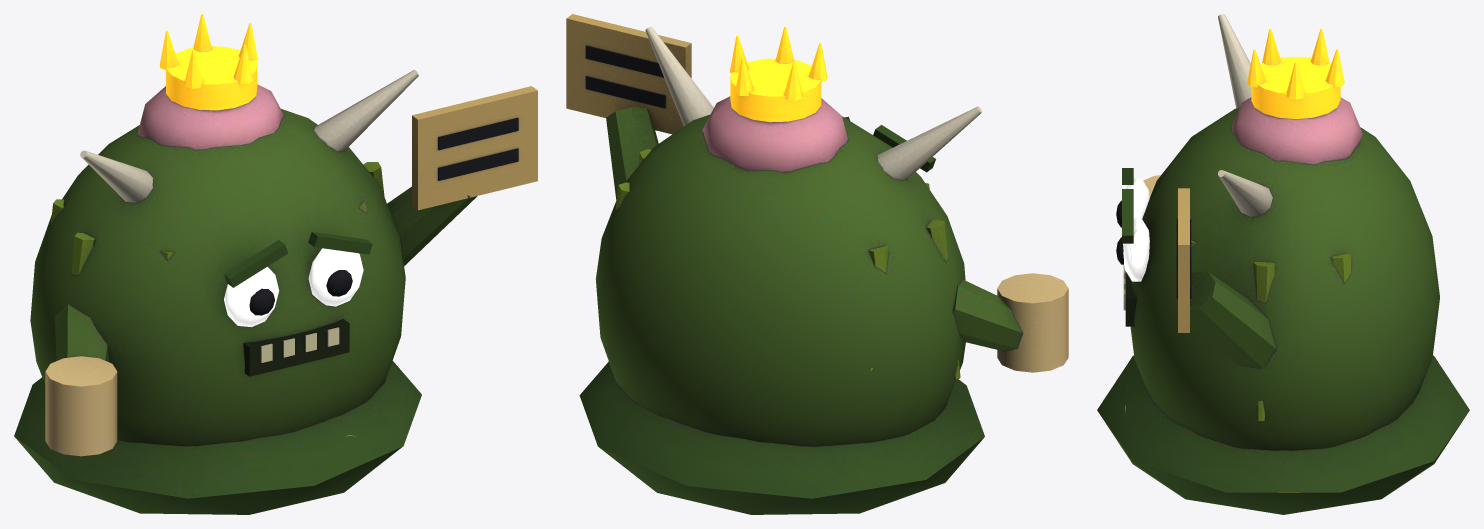
Rendered from jefe_pantano.glb.
3 views of the same model, side by side, from view 1: azimuth 30°, elevation 25°; view 2: azimuth 150°, elevation 25°; view 3: azimuth 270°, elevation 25° (orthographic). The views are drawn at different scales.
Visible parts, largest first — view 1: jefe_pantano; view 2: jefe_pantano; view 3: jefe_pantano.
Part boxes in pixels (x1,y1,x2,y2): jefe_pantano: (14,14,537,514); jefe_pantano: (566,14,1068,514); jefe_pantano: (1097,14,1469,514).
Size of the model in its own units: 4.42 by 3.86 by 3.
Materials: 1 (1 with a texture image).
